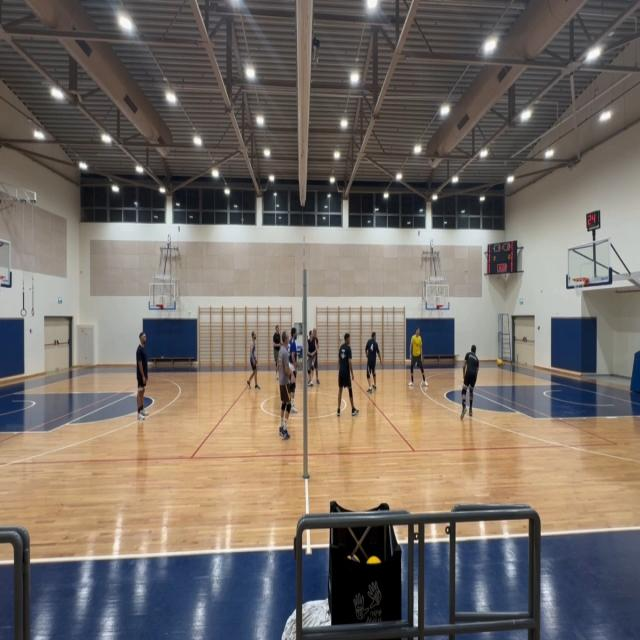volleyball: (497, 358, 503, 368)
